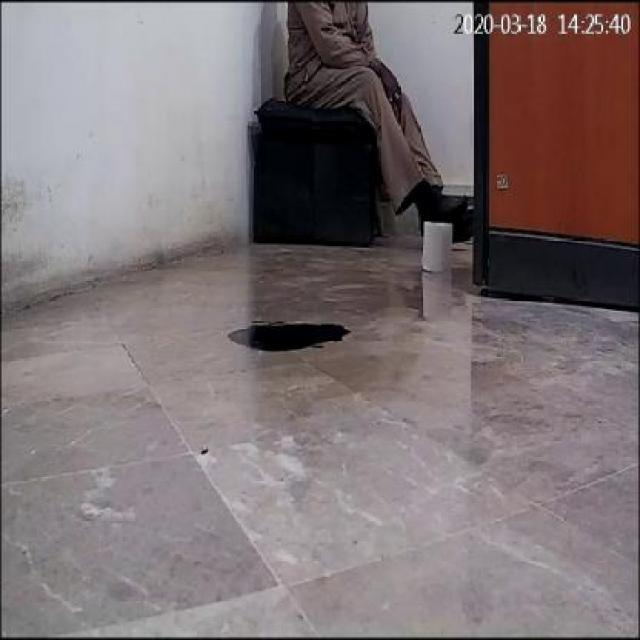spill: (227, 321, 347, 352)
